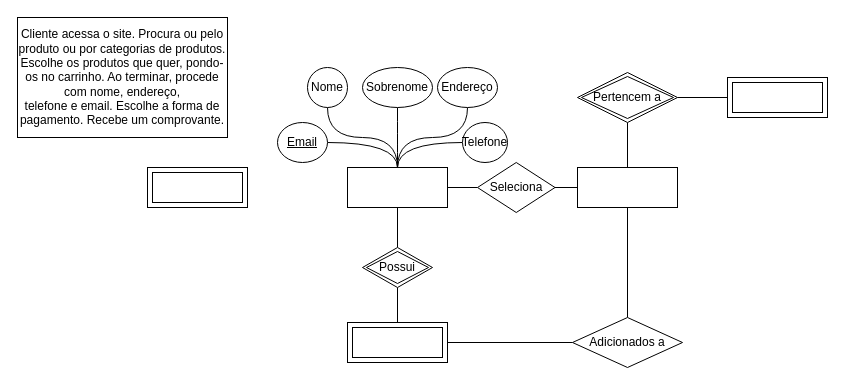
The diagram is 845 pixels wide and 385 high, and some of its shapes have lost their labels. Each missing label, with the centre of its shape:
Carrinho: the point at 397,342
Categoria: the point at 777,97
Clientes: the point at 397,187
Pedidos: the point at 197,187
Produtos: the point at 627,187
